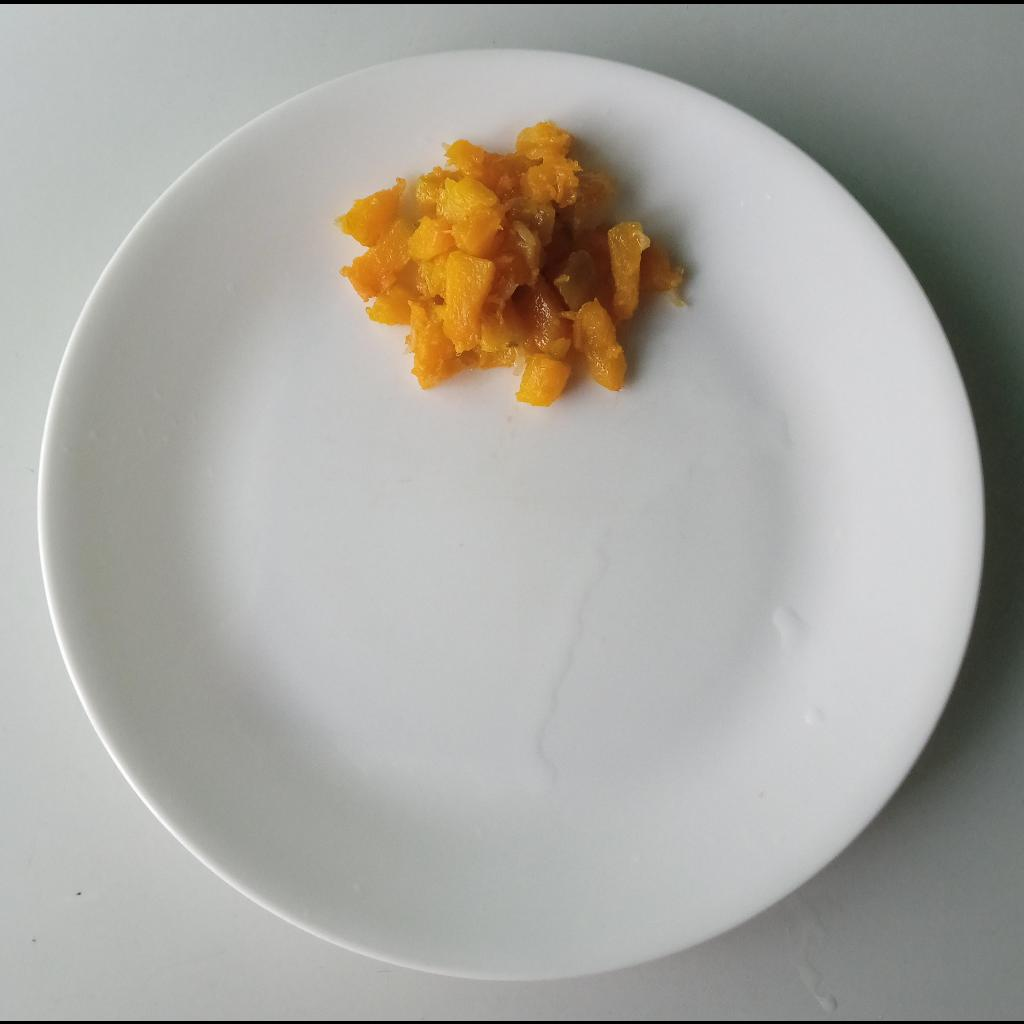kumra-vaji: (336, 122, 685, 407)
